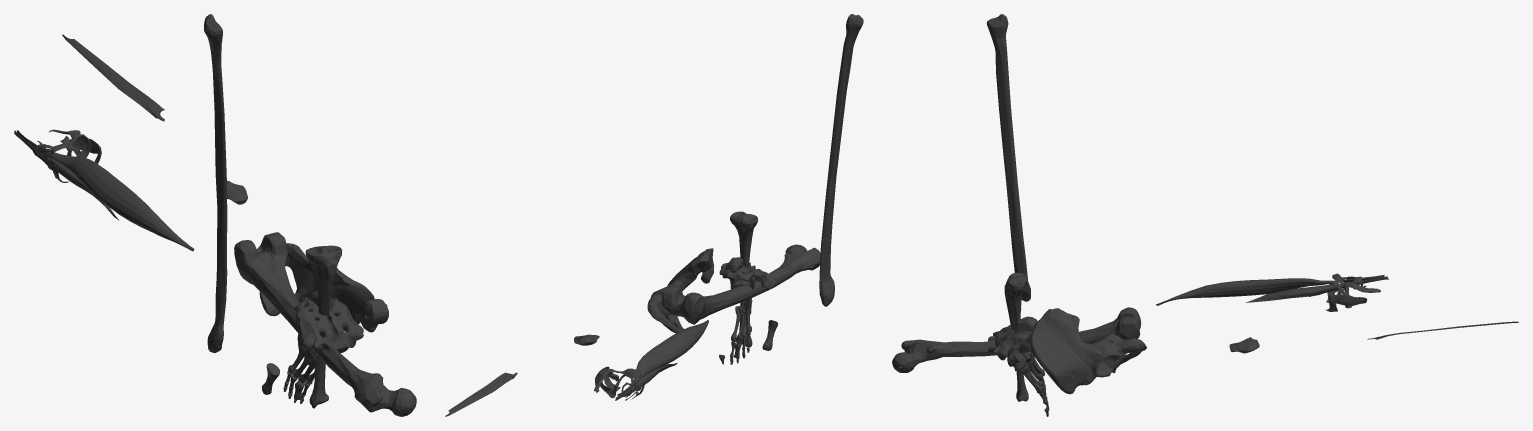
Rendered from sharedassets31.glb.
3 renders of one model, left to right at view 1: azimuth 30°, elevation 25°; view 2: azimuth 150°, elevation 25°; view 3: azimuth 270°, elevation 25°, orthographic. The views are drawn at different scales.
Parts seen in each view (by area): view 1: 0011_Femur _thigh_, R__000930, 0012_Fibula _leg_, R__000928, 0045_Biceps femoris, long head, R__100056, 0047_S01-05 Sacrum__001242, 0014_Tibia _leg_, R__000925, 0013_Interosseous membrane of the leg _middle, 0079_Femur _thigh_, L_male_000854, 0044_Ilium, R__001012, 0078_Fibula _leg_, L__000922, 0077_Tibia _leg_, L__000923, 0025_Talus, R__000940, 0083_Ilium, L_male_001003 (+4 smaller); view 2: 0012_Fibula _leg_, R__000928, 0011_Femur _thigh_, R__000930, 0045_Biceps femoris, long head, R__100056, 0079_Femur _thigh_, L_male_000854, 0078_Fibula _leg_, L__000922, 0044_Ilium, R__001012, 0047_S01-05 Sacrum__001242, 0077_Tibia _leg_, L__000923, 0013_Interosseous membrane of the leg _middle, 0014_Tibia _leg_, R__000925, 0042_Ischium, R__001010; view 3: 0044_Ilium, R__001012, 0078_Fibula _leg_, L__000922, 0011_Femur _thigh_, R__000930, 0045_Biceps femoris, long head, R__100056, 0083_Ilium, L_male_001003, 0079_Femur _thigh_, L_male_000854, 0046_Biceps femoris, short head, R__100058, 0047_S01-05 Sacrum__001242, 0014_Tibia _leg_, R__000925, 0042_Ischium, R__001010, 0012_Fibula _leg_, R__000928, 0077_Tibia _leg_, L__000923.
Part boxes in pixels (x1,y1,x2,y2): 0011_Femur _thigh_, R__000930: [234, 232, 416, 411]; 0012_Fibula _leg_, R__000928: [204, 14, 227, 352]; 0045_Biceps femoris, long head, R__100056: [17, 130, 194, 251]; 0047_S01-05 Sacrum__001242: [293, 297, 363, 353]; 0014_Tibia _leg_, R__000925: [306, 246, 342, 408]; 0013_Interosseous membrane of the leg _middle: [62, 34, 164, 121]; 0079_Femur _thigh_, L_male_000854: [234, 237, 415, 416]; 0044_Ilium, R__001012: [303, 261, 374, 324]; 0078_Fibula _leg_, L__000922: [204, 14, 227, 352]; 0077_Tibia _leg_, L__000923: [305, 245, 341, 408]; 0025_Talus, R__000940: [360, 299, 388, 332]; 0083_Ilium, L_male_001003: [305, 264, 374, 323]; 0012_Fibula _leg_, R__000928: [819, 14, 863, 306]; 0011_Femur _thigh_, R__000930: [661, 244, 820, 315]; 0045_Biceps femoris, long head, R__100056: [617, 320, 708, 396]; 0079_Femur _thigh_, L_male_000854: [661, 257, 819, 324]; 0078_Fibula _leg_, L__000922: [819, 14, 863, 295]; 0044_Ilium, R__001012: [662, 248, 712, 313]; 0047_S01-05 Sacrum__001242: [719, 262, 776, 289]; 0077_Tibia _leg_, L__000923: [730, 211, 757, 347]; 0013_Interosseous membrane of the leg _middle: [445, 372, 517, 416]; 0014_Tibia _leg_, R__000925: [730, 212, 757, 346]; 0042_Ischium, R__001010: [647, 287, 677, 331]; 0044_Ilium, R__001012: [1030, 308, 1103, 392]; 0078_Fibula _leg_, L__000922: [988, 14, 1030, 301]; 0011_Femur _thigh_, R__000930: [892, 307, 1140, 370]; 0045_Biceps femoris, long head, R__100056: [1156, 274, 1384, 305]; 0083_Ilium, L_male_001003: [1032, 311, 1103, 394]; 0079_Femur _thigh_, L_male_000854: [892, 313, 1140, 372]; 0046_Biceps femoris, short head, R__100058: [1245, 276, 1388, 302]; 0047_S01-05 Sacrum__001242: [988, 325, 1031, 360]; 0014_Tibia _leg_, R__000925: [1004, 273, 1028, 401]; 0042_Ischium, R__001010: [1098, 333, 1146, 359]; 0012_Fibula _leg_, R__000928: [986, 14, 1030, 300]; 0077_Tibia _leg_, L__000923: [1004, 272, 1028, 401].
Bounding box in the file's own units: 0.1862 × 0.3865 × 0.624.
Materials: 1 (1 with a texture image).
